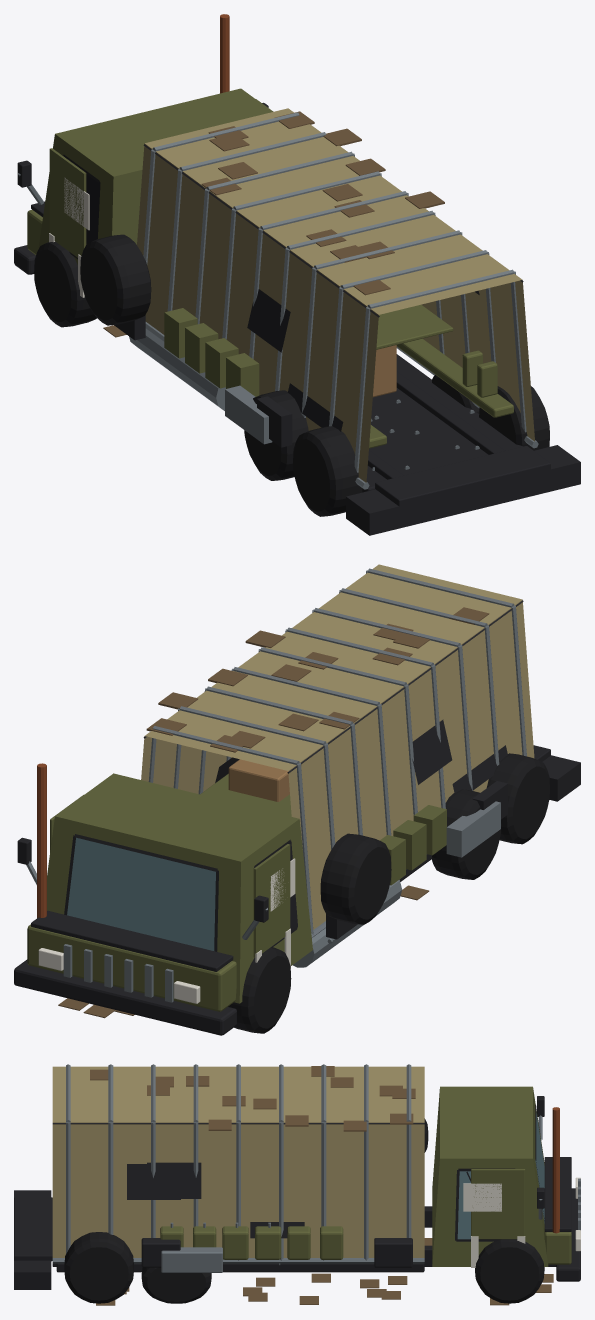
Rendered from army_truck_jam.glb.
3 renders of one model, top to bottom at view 1: azimuth 30°, elevation 25°; view 2: azimuth 150°, elevation 25°; view 3: azimuth 270°, elevation 25°, orthographic. The views are drawn at different scales.
Parts seen in each view (by area): view 1: army_truck_jam; view 2: army_truck_jam; view 3: army_truck_jam.
Boxes of the visible parts, x1,y1,x2,y2 form: army_truck_jam: (14,14,580,535); army_truck_jam: (14,564,580,1035); army_truck_jam: (14,1064,580,1305).
Size of what is drawn, in the model's own units: 3.1 by 2.7 by 7.32.
2 materials, 2 textured.
